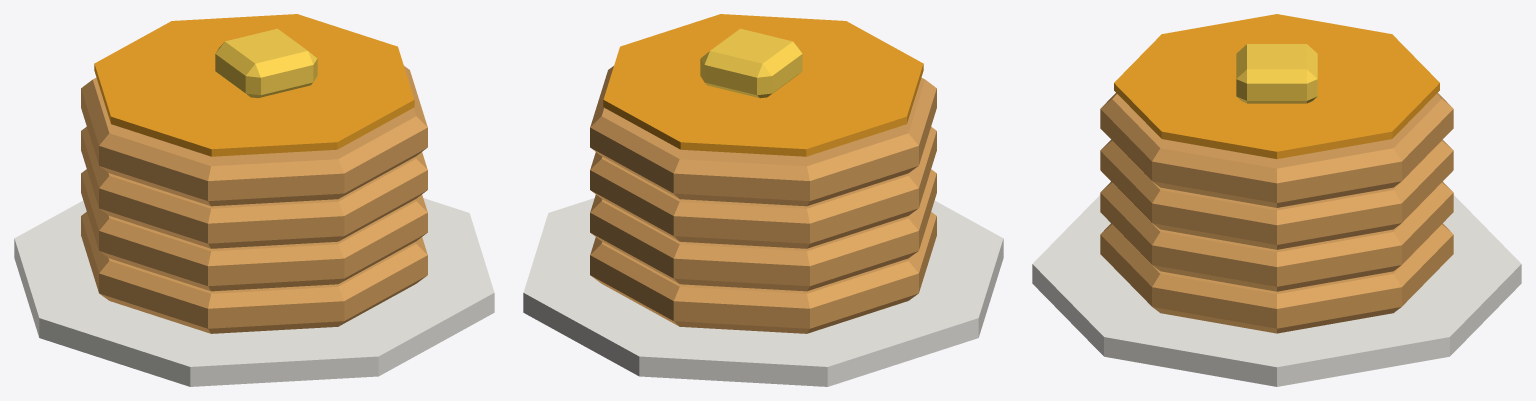
File: Pancakes.fbx
The picture shows the model from 3 angles, left to right: view 1: azimuth 30°, elevation 25°; view 2: azimuth 150°, elevation 25°; view 3: azimuth 270°, elevation 25°; orthographic projection.
Visible parts, largest first — view 1: Pancakes; view 2: Pancakes; view 3: Pancakes.
Boxes of the visible parts, x1,y1,x2,y2 form: Pancakes: (14, 14, 494, 386); Pancakes: (523, 14, 1003, 386); Pancakes: (1032, 14, 1521, 386).
Size of the model in its own units: 1.8 by 0.945 by 1.8.
1 material, 1 textured.
